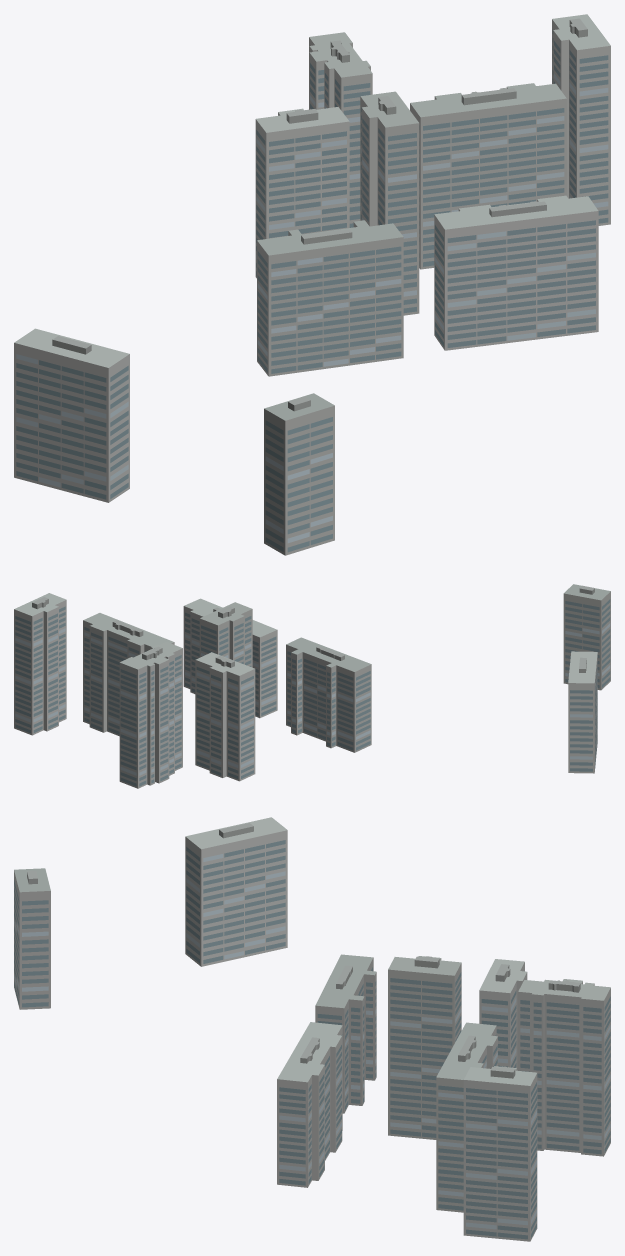
The model's file is apt-a13009206.glb.
3 views of the same model, one above another, from view 1: azimuth 30°, elevation 25°; view 2: azimuth 150°, elevation 25°; view 3: azimuth 270°, elevation 25° (orthographic). The views are drawn at different scales.
Visible parts, largest first — view 1: apt-a13009206; view 2: apt-a13009206; view 3: apt-a13009206.
Boxes of the visible parts, box(x1,y1,x2,y2) form: apt-a13009206: box(14, 14, 610, 555); apt-a13009206: box(14, 584, 610, 788); apt-a13009206: box(14, 817, 610, 1241).
Size of the model in its own units: 256 by 67 by 211.
